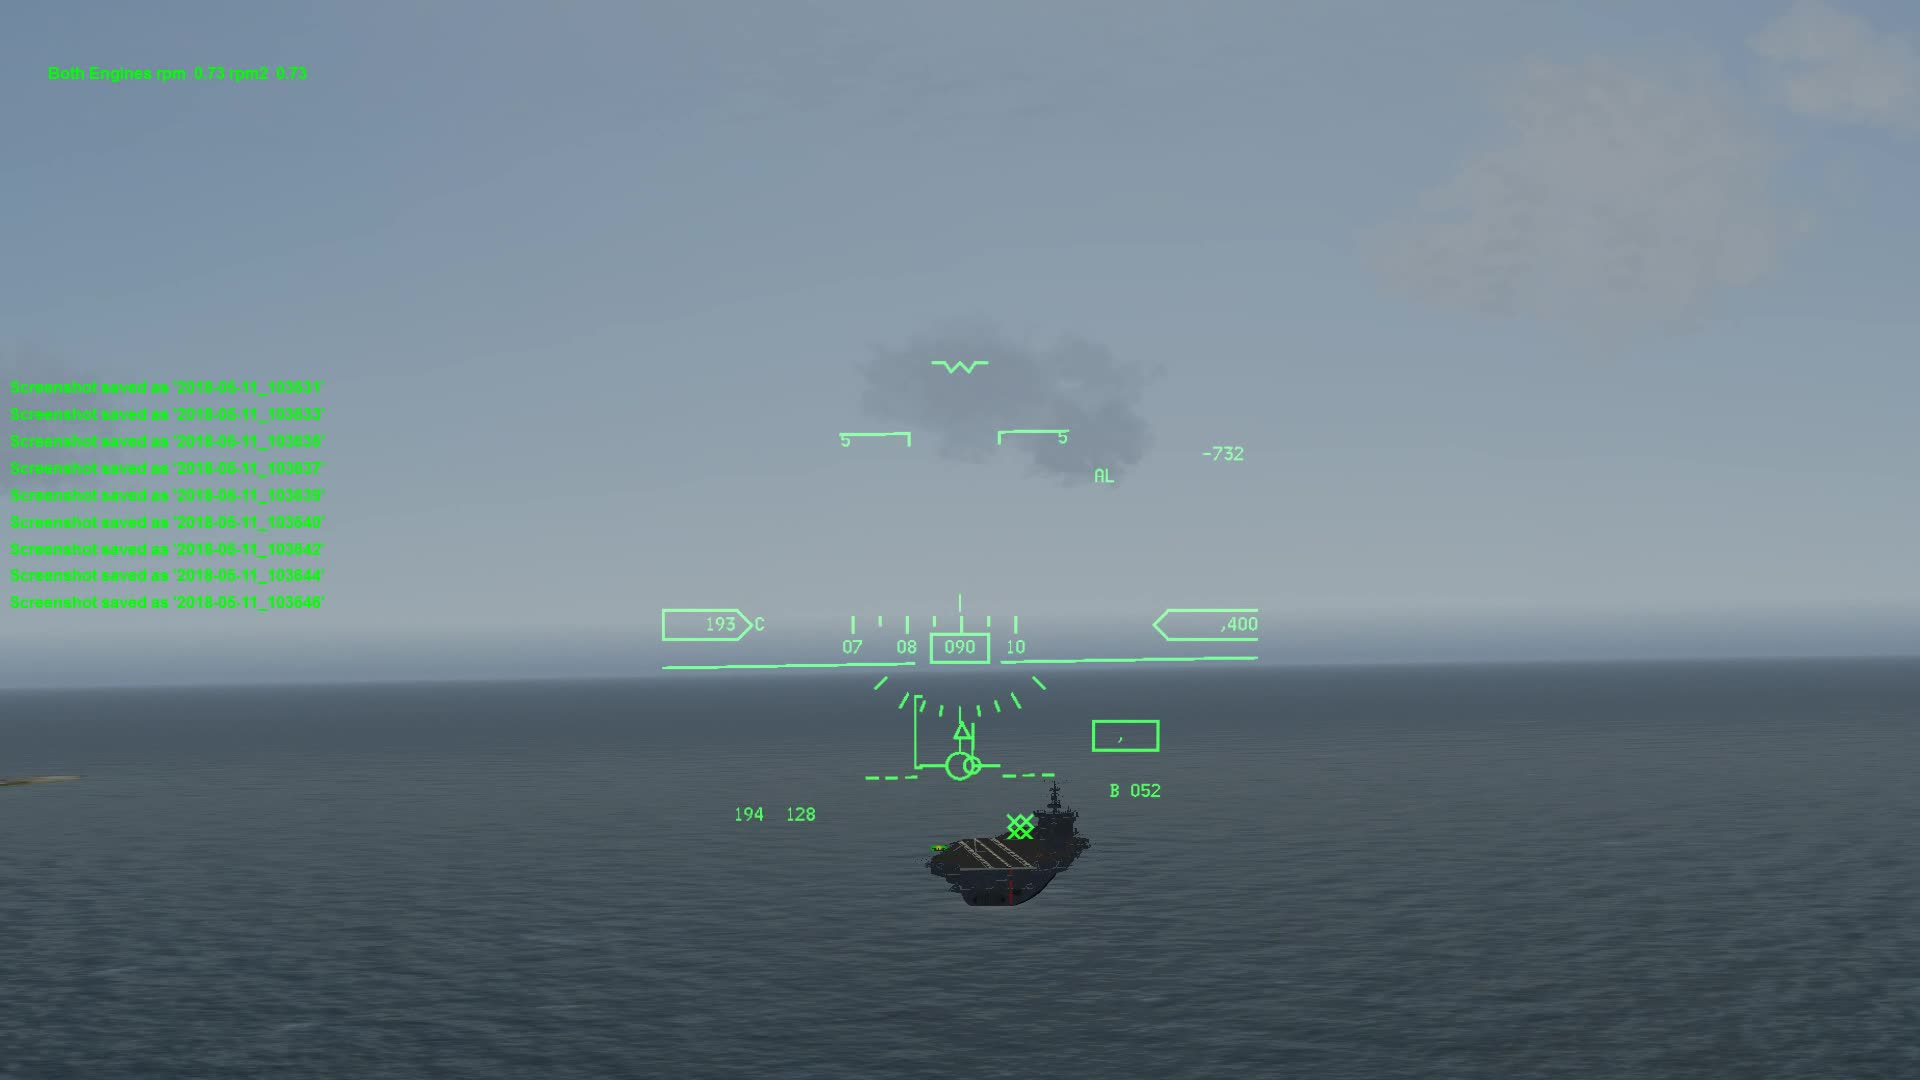speed vector: (916, 744, 1018, 789)
